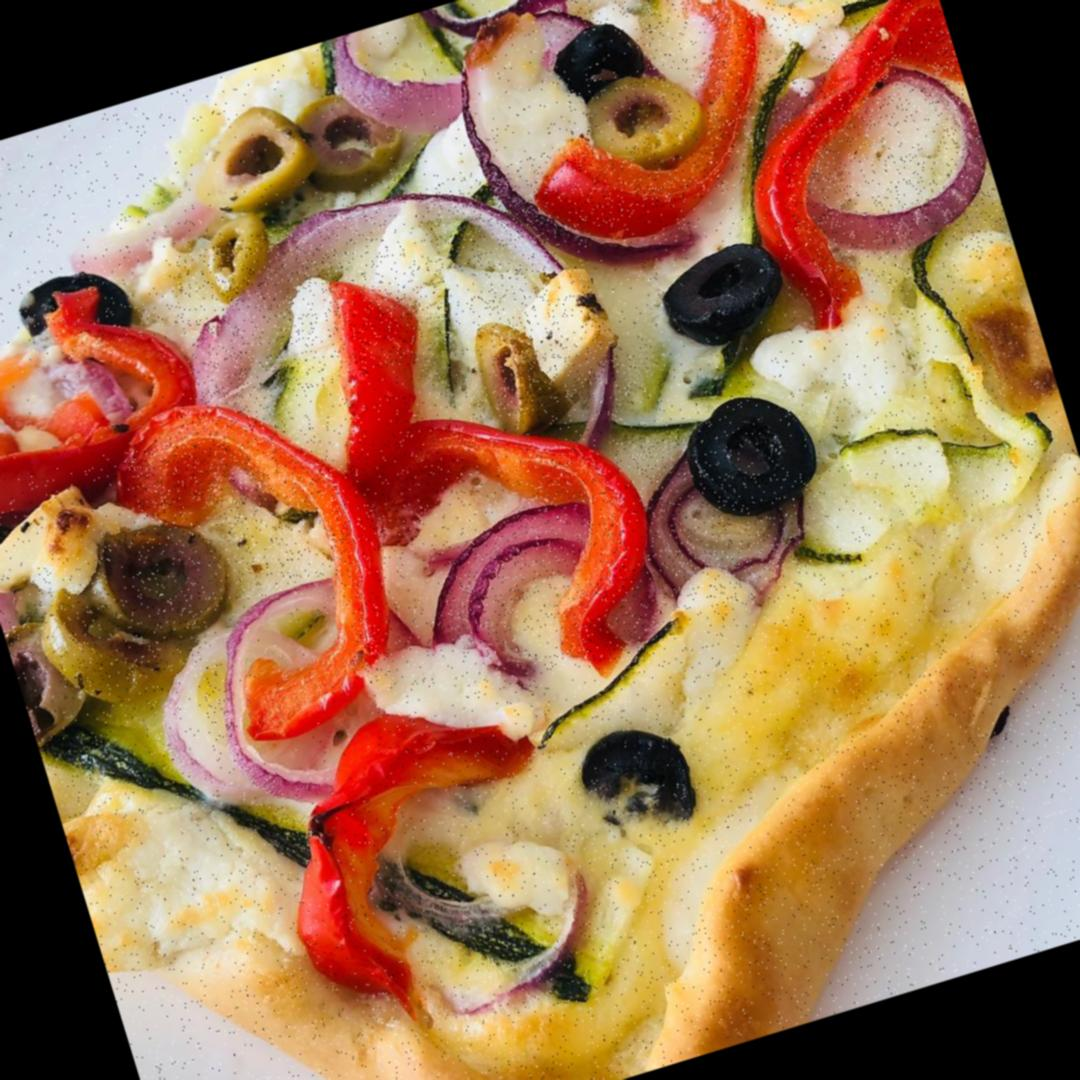Olives: (21, 502, 258, 702), (190, 77, 408, 276), (470, 262, 620, 416), (683, 383, 830, 525), (564, 718, 706, 842), (14, 246, 156, 368), (582, 71, 722, 194), (659, 223, 796, 344), (558, 18, 654, 96)
Onion: (159, 148, 582, 424), (431, 440, 815, 694), (311, 0, 570, 207), (784, 58, 1002, 264), (204, 573, 394, 800)
Peppers: (327, 338, 746, 737), (119, 369, 418, 744), (246, 682, 575, 1019), (735, 0, 1015, 307), (484, 0, 803, 242), (280, 268, 448, 488), (0, 302, 184, 502)
Pizza: (0, 0, 1080, 1080)
